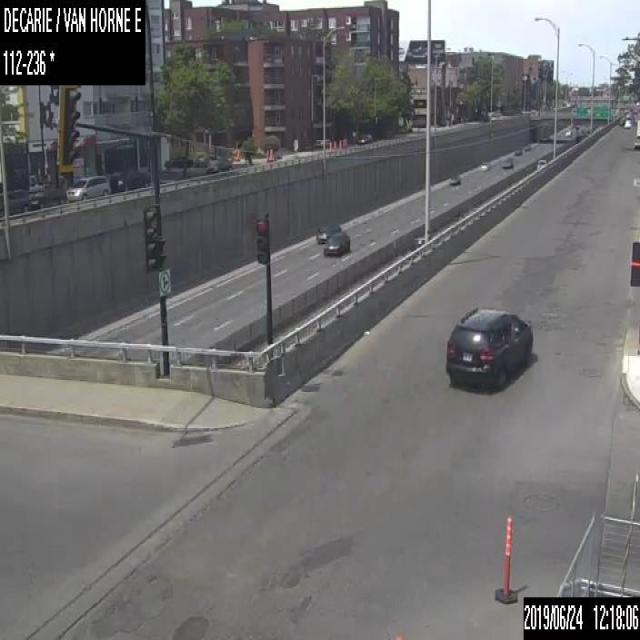construction: (493, 513, 520, 604), (341, 137, 346, 148), (328, 140, 332, 151), (269, 148, 272, 160), (333, 140, 336, 150), (266, 147, 268, 160), (338, 139, 340, 149)
vehicle: (445, 305, 532, 387), (65, 174, 109, 202), (28, 187, 64, 208), (110, 170, 147, 190), (0, 188, 27, 212), (323, 232, 349, 256), (315, 222, 341, 243), (206, 156, 232, 172), (357, 132, 371, 144), (501, 154, 513, 167), (536, 157, 548, 168), (449, 174, 460, 184), (479, 161, 489, 170), (514, 146, 522, 154), (624, 118, 630, 127), (565, 129, 572, 136), (524, 144, 530, 150)
